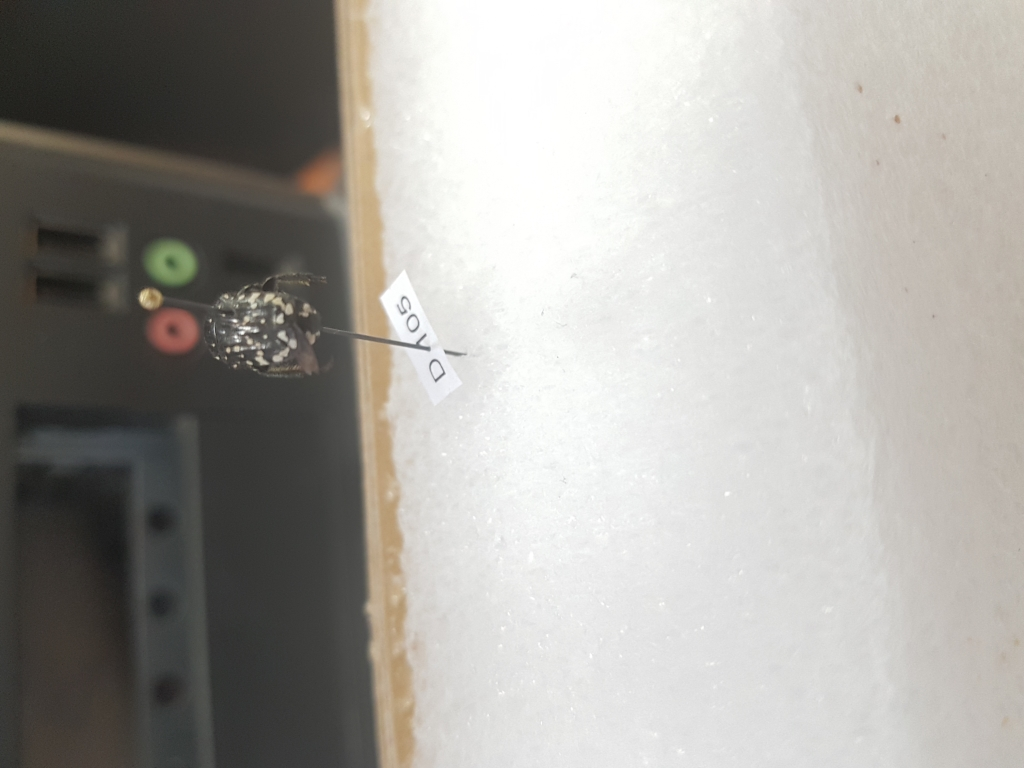Oxythyrea_cinctella: (200, 265, 334, 383)
